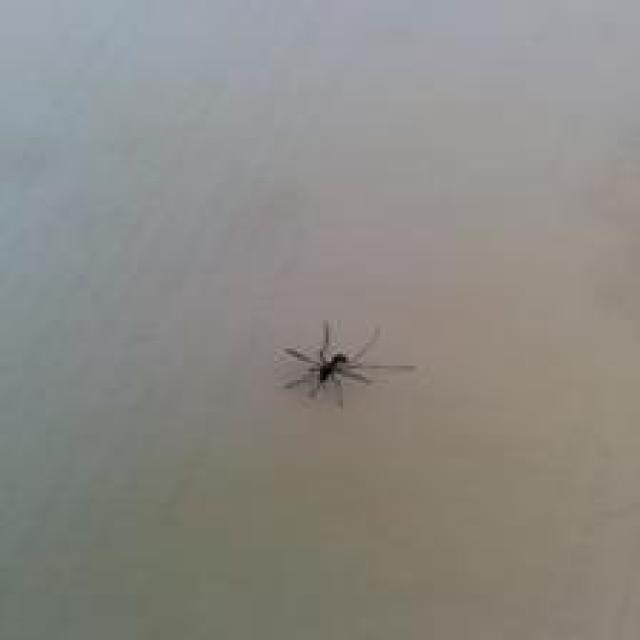Aedes albopictus: (278, 319, 416, 410)
